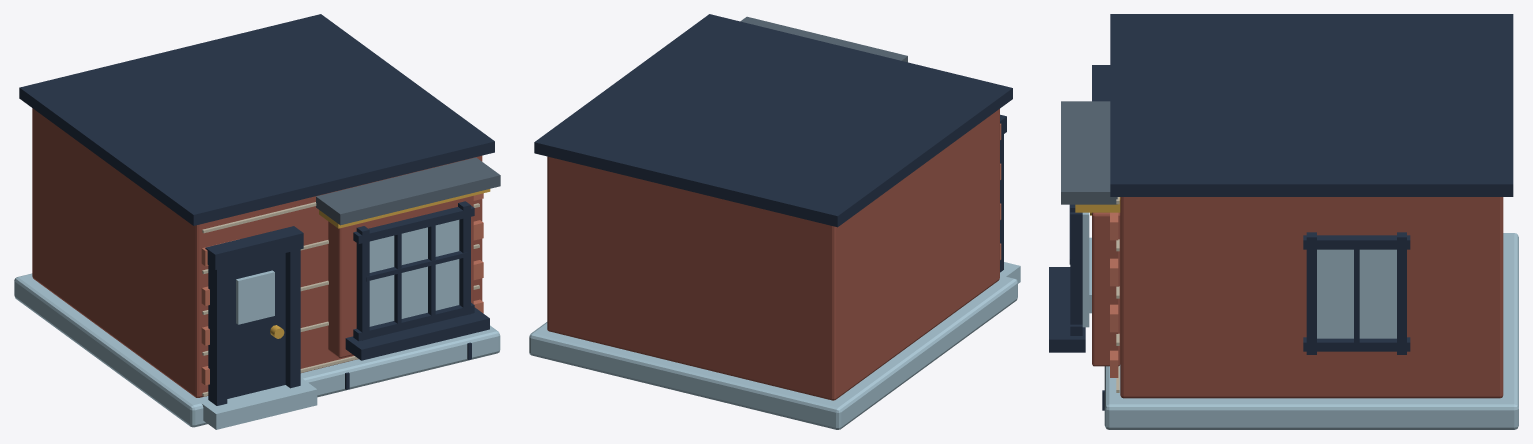
The model's file is base_house_works_1.glb.
3 views of the same model, side by side, from view 1: azimuth 30°, elevation 25°; view 2: azimuth 150°, elevation 25°; view 3: azimuth 270°, elevation 25° (orthographic). The views are drawn at different scales.
Parts seen in each view (by area): view 1: base_house_works_1 ink, base_house_works_1 brick, base_house_works_1 mist, base_house_works_1 glass, base_house_works_1 steel, base_house_works_1 mortar, base_house_works_1 clay, base_house_works_1 ochre; view 2: base_house_works_1 brick, base_house_works_1 ink, base_house_works_1 mist, base_house_works_1 steel; view 3: base_house_works_1 ink, base_house_works_1 brick, base_house_works_1 mist, base_house_works_1 glass, base_house_works_1 steel, base_house_works_1 clay.
Part boxes in pixels (x1=…): base_house_works_1 ink: x1=19, y1=14, x2=494, y2=405; base_house_works_1 brick: x1=32, y1=108, x2=482, y2=397; base_house_works_1 mist: x1=14, y1=273, x2=500, y2=429; base_house_works_1 glass: x1=236, y1=220, x2=459, y2=326; base_house_works_1 steel: x1=316, y1=157, x2=500, y2=225; base_house_works_1 mortar: x1=202, y1=202, x2=479, y2=396; base_house_works_1 clay: x1=201, y1=193, x2=483, y2=385; base_house_works_1 ochre: x1=270, y1=189, x2=490, y2=338; base_house_works_1 brick: x1=547, y1=109, x2=999, y2=400; base_house_works_1 ink: x1=534, y1=14, x2=1012, y2=272; base_house_works_1 mist: x1=529, y1=262, x2=1020, y2=429; base_house_works_1 steel: x1=740, y1=16, x2=907, y2=62; base_house_works_1 ink: x1=1049, y1=14, x2=1513, y2=410; base_house_works_1 brick: x1=1092, y1=197, x2=1503, y2=398; base_house_works_1 mist: x1=1089, y1=233, x2=1518, y2=429; base_house_works_1 glass: x1=1082, y1=212, x2=1396, y2=338; base_house_works_1 steel: x1=1061, y1=101, x2=1117, y2=204; base_house_works_1 clay: x1=1110, y1=212, x2=1118, y2=377.
Size of the model in its own units: 0.7445 by 0.48 by 0.834.
